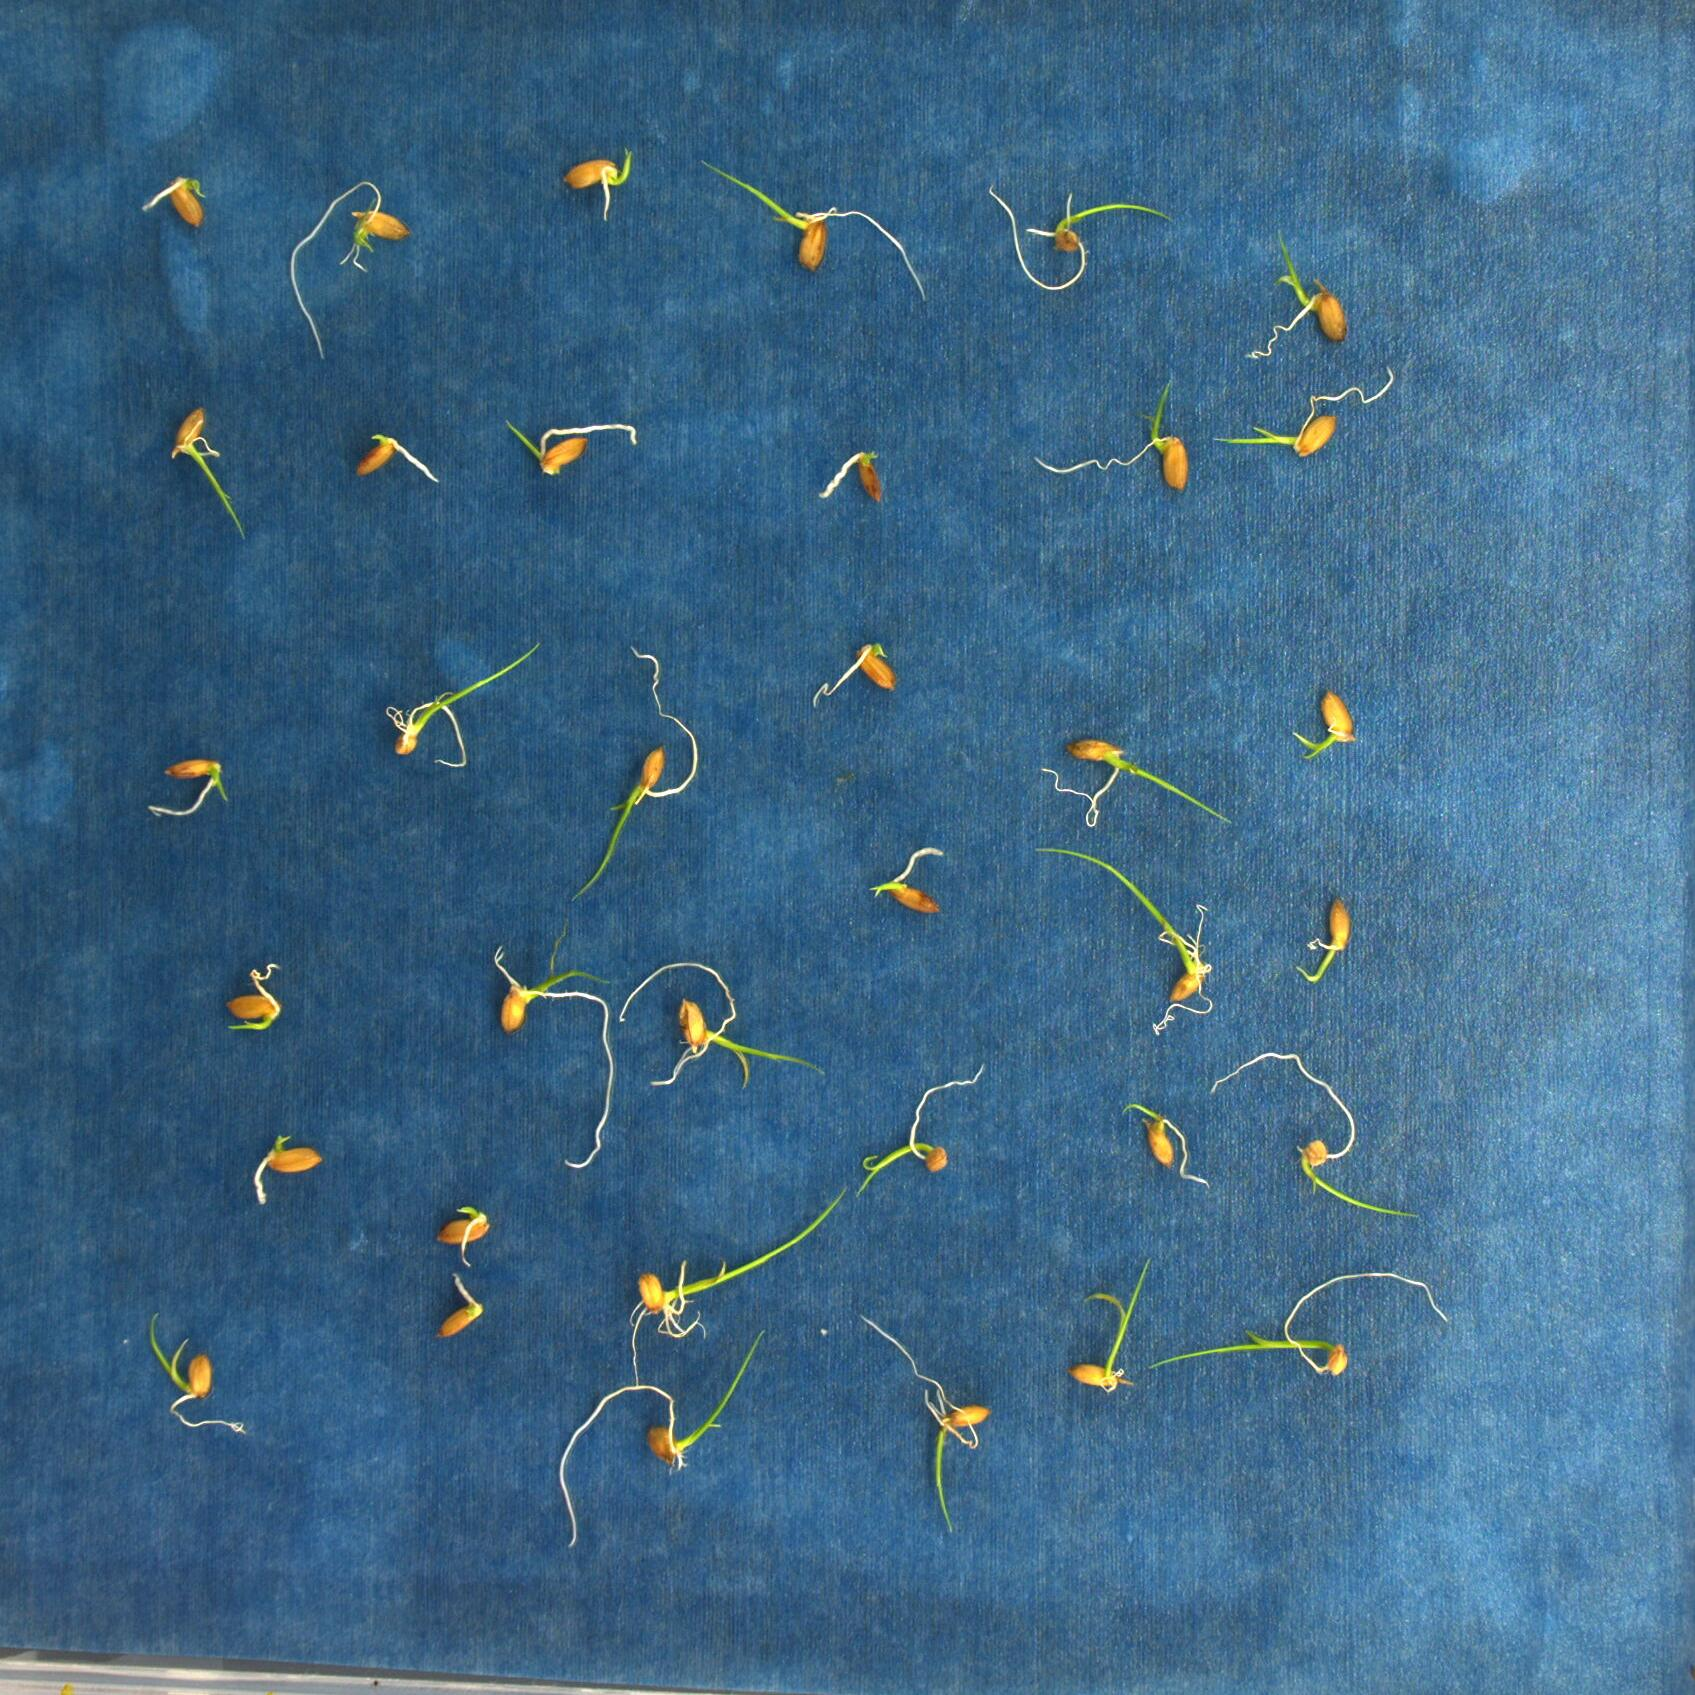not sprout: (810, 643, 897, 708), (255, 1135, 324, 1208), (354, 435, 439, 484), (436, 1271, 484, 1341), (141, 175, 205, 228), (820, 452, 883, 501)
sprout: (559, 1329, 767, 1549), (632, 1186, 847, 1386), (1209, 1052, 1419, 1218), (1035, 847, 1215, 1037), (570, 644, 698, 903), (702, 158, 928, 303), (1146, 1271, 1448, 1375), (494, 916, 615, 1170), (860, 1315, 993, 1537), (619, 959, 826, 1090), (290, 180, 408, 360), (989, 185, 1177, 292), (385, 640, 542, 767), (855, 1062, 986, 1198), (1034, 379, 1187, 494), (1042, 737, 1232, 827), (1212, 366, 1394, 459), (1246, 227, 1347, 360), (147, 1312, 245, 1433), (1066, 1257, 1153, 1392), (172, 407, 247, 543), (1121, 1104, 1212, 1187), (504, 419, 636, 477), (563, 149, 632, 224), (869, 847, 944, 916), (1295, 899, 1352, 986), (1293, 688, 1358, 762), (147, 757, 228, 816), (225, 961, 282, 1034), (435, 1206, 490, 1270)
